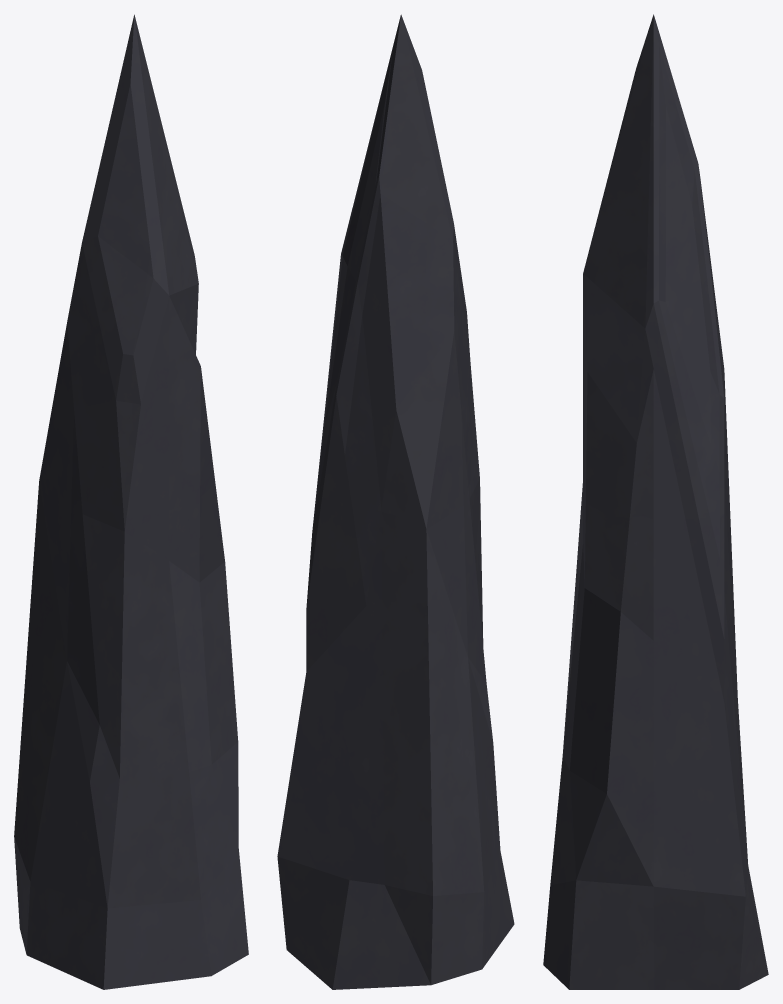
The model's file is stonicle 3.fbx.
The picture shows the model from 3 angles, left to right: view 1: azimuth 30°, elevation 25°; view 2: azimuth 150°, elevation 25°; view 3: azimuth 270°, elevation 25°; orthographic projection.
Parts seen in each view (by area): view 1: Cube.007; view 2: Cube.007; view 3: Cube.007.
Part boxes in pixels (<box>): Cube.007: <box>14,14,248,989</box>; Cube.007: <box>277,14,514,989</box>; Cube.007: <box>543,14,768,989</box>.
Bounding box in the file's own units: 291 × 1492 × 319.
